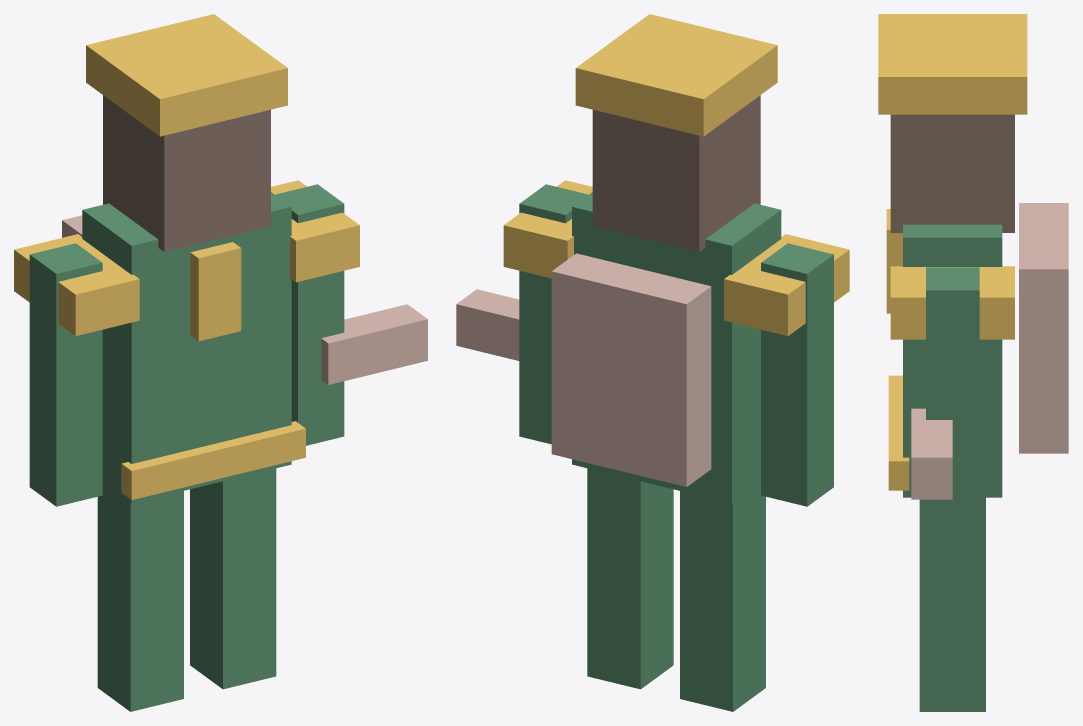
The model's file is 13_nix_spirebound_keeper_of_mycelial.glb.
3 renders of one model, left to right at view 1: azimuth 30°, elevation 25°; view 2: azimuth 150°, elevation 25°; view 3: azimuth 270°, elevation 25°, orthographic.
Visible parts, largest first — view 1: Nix Spirebound, Keeper of Mycelial; view 2: Nix Spirebound, Keeper of Mycelial; view 3: Nix Spirebound, Keeper of Mycelial.
Part boxes in pixels (left/top/right/bottom): Nix Spirebound, Keeper of Mycelial: left=14, top=14, right=427, bottom=711; Nix Spirebound, Keeper of Mycelial: left=456, top=14, right=849, bottom=711; Nix Spirebound, Keeper of Mycelial: left=878, top=14, right=1068, bottom=711.
Size of the model in its own units: 0.96 by 1.58 by 0.4308.
